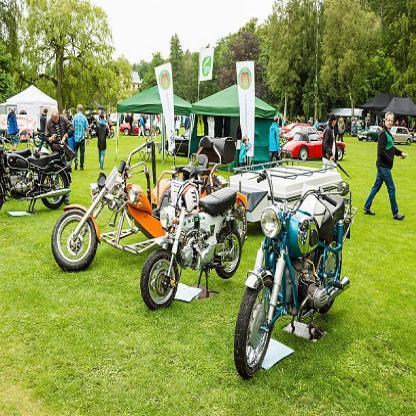Motorcycle: (235, 165, 350, 394), (44, 139, 184, 278), (138, 161, 251, 314), (1, 129, 75, 216)
